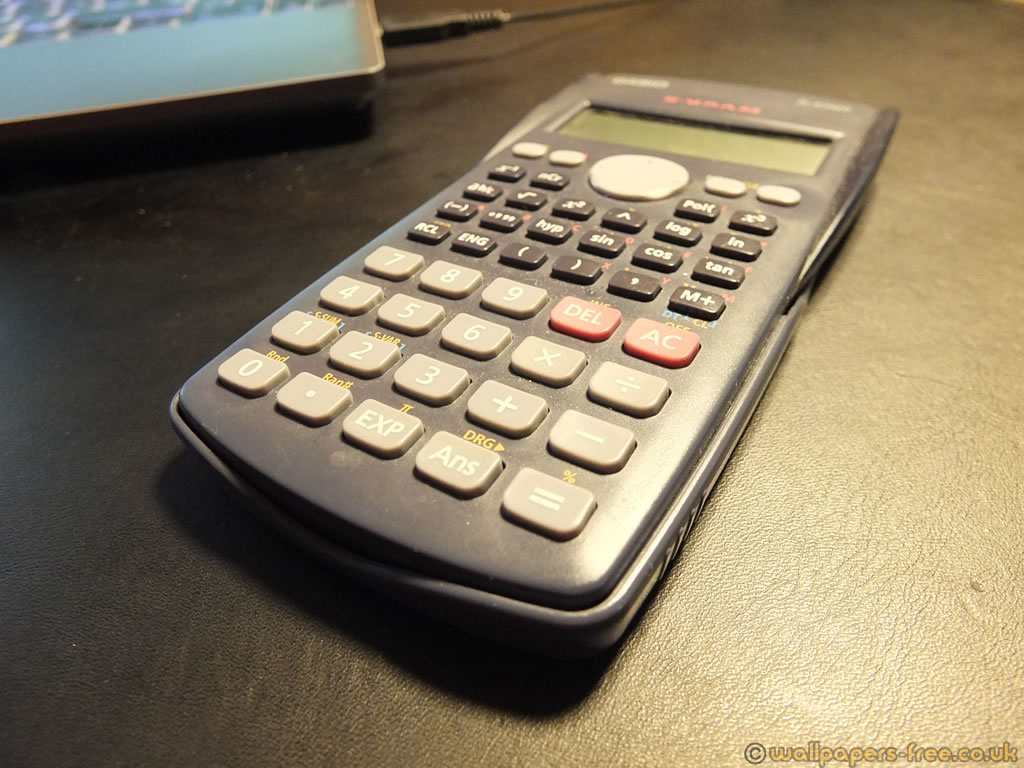Calculator: (154, 67, 903, 664)
